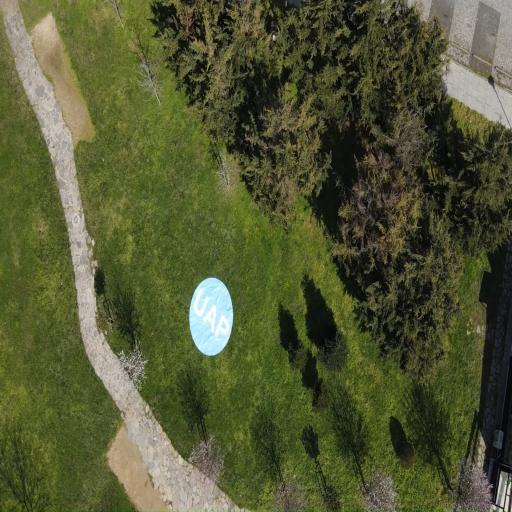car: (189, 278, 233, 355)
